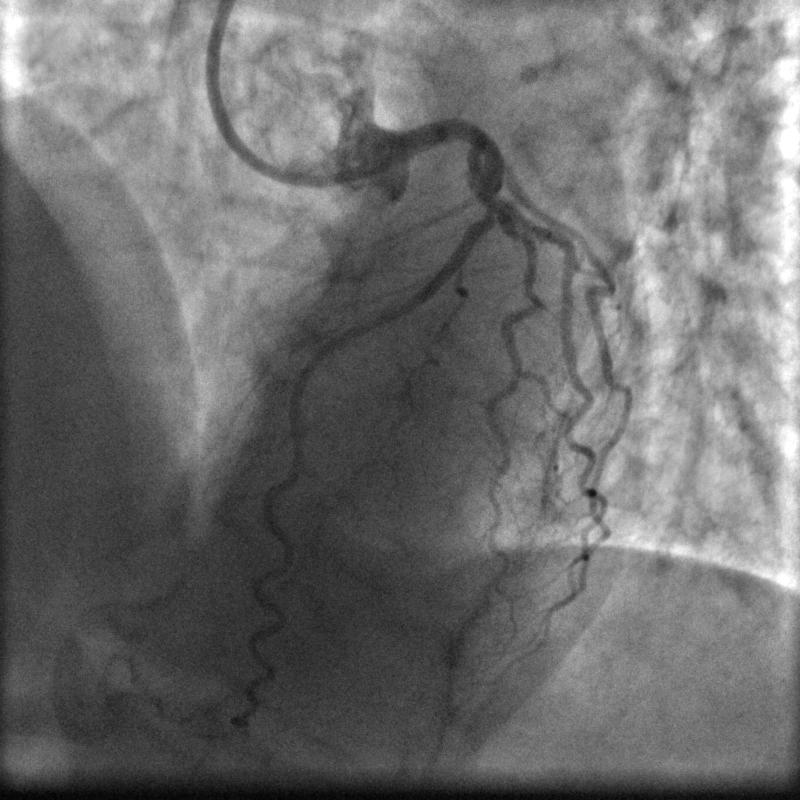Stenosis: (480, 199, 505, 226)
